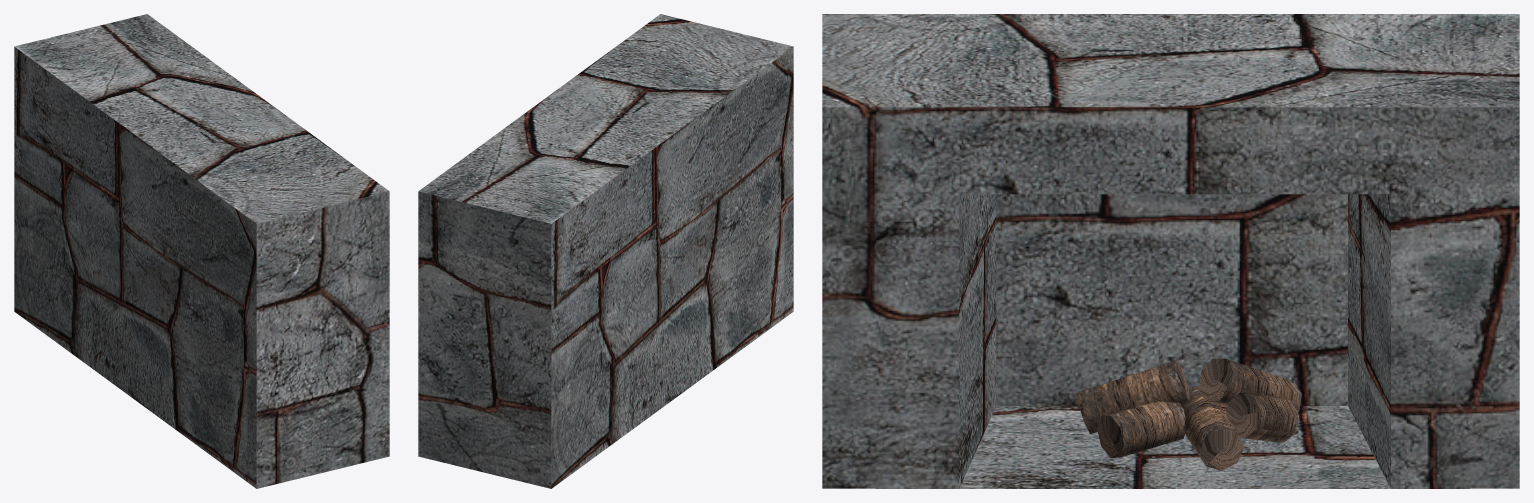
The model's file is Fireplace.FBX.
The picture shows the model from 3 angles, left to right: view 1: azimuth 30°, elevation 25°; view 2: azimuth 150°, elevation 25°; view 3: azimuth 270°, elevation 25°; orthographic projection. The views are drawn at different scales.
Visible parts, largest first — view 1: Object001; view 2: Object001; view 3: Object001, Cylinder001, www, Cylinder002, w, www001.
Boxes of the visible parts, x1,y1,x2,y2 form: Object001: (14, 14, 389, 488); Object001: (418, 14, 793, 488); Object001: (822, 14, 1519, 488); Cylinder001: (1076, 360, 1189, 434); www: (1097, 401, 1185, 457); Cylinder002: (1181, 385, 1243, 470); w: (1198, 358, 1301, 412); www001: (1225, 392, 1299, 442).
Size of the model in its own units: 15.01 by 28.79 by 47.18.
Materials: 2 (2 with a texture image).
